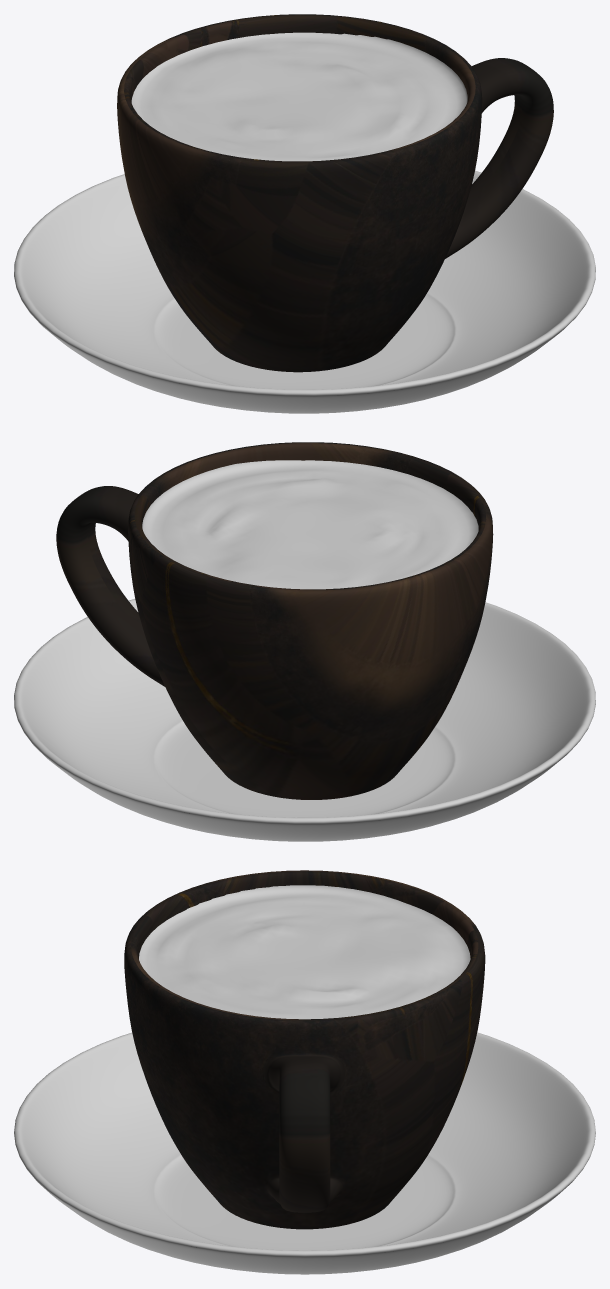
Rendered from Latte.fbx.
3 renders of one model, top to bottom at view 1: azimuth 30°, elevation 25°; view 2: azimuth 150°, elevation 25°; view 3: azimuth 270°, elevation 25°, orthographic.
Visible parts, largest first — view 1: cup_1, plate_2, coffee_0; view 2: cup_1, plate_2, coffee_0; view 3: cup_1, plate_2, coffee_0.
Part boxes in pixels (x1,y1,x2,y2): cup_1: (117, 14, 553, 372); plate_2: (14, 170, 595, 413); coffee_0: (131, 32, 467, 161); cup_1: (56, 442, 493, 799); plate_2: (14, 599, 595, 841); coffee_0: (142, 460, 478, 589); cup_1: (124, 870, 485, 1229); plate_2: (14, 1032, 595, 1274); coffee_0: (139, 885, 470, 1019).
Bounding box in the file's own units: 15.25 × 7.29 × 15.25.
